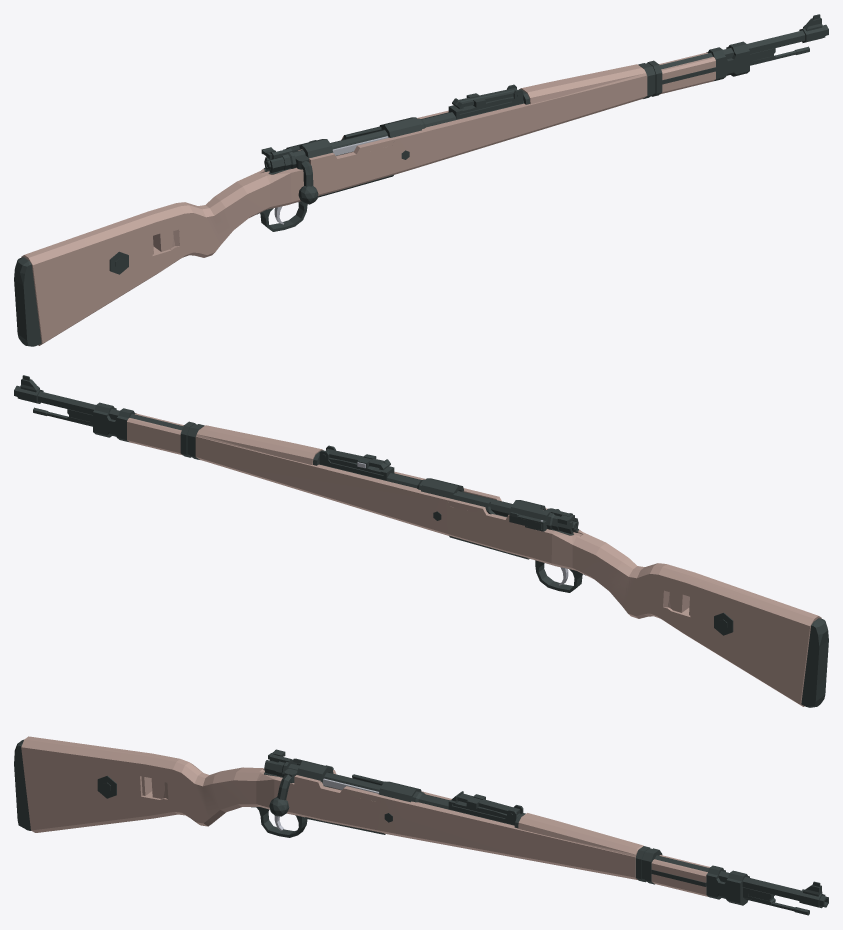
File: kar98k.glb
3 renders of one model, top to bottom at view 1: azimuth 30°, elevation 25°; view 2: azimuth 150°, elevation 25°; view 3: azimuth 330°, elevation 25°, orthographic.
Visible parts, largest first — view 1: Body, Bolt; view 2: Body; view 3: Body, Bolt, Scope, Cylinder.
Boxes of the visible parts, box(x1,y1,x2,y2) form: Body: box(14, 14, 828, 346); Bolt: box(292, 129, 388, 204); Body: box(14, 375, 828, 707); Body: box(14, 736, 828, 915); Bolt: box(269, 764, 381, 816); Scope: box(452, 791, 520, 817); Cylinder: box(264, 754, 295, 777).
Bounding box in the file's own units: 9.02 × 1.5 × 0.5452.
